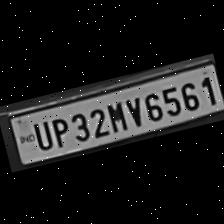1: (195, 72, 220, 107)
2: (84, 102, 110, 138)
3: (64, 106, 92, 143)
5: (156, 82, 182, 118)
6: (138, 88, 164, 124), (175, 76, 201, 112)
M: (102, 96, 128, 133)
P: (46, 112, 72, 148)
U: (27, 115, 53, 151)
V: (121, 92, 145, 128)
